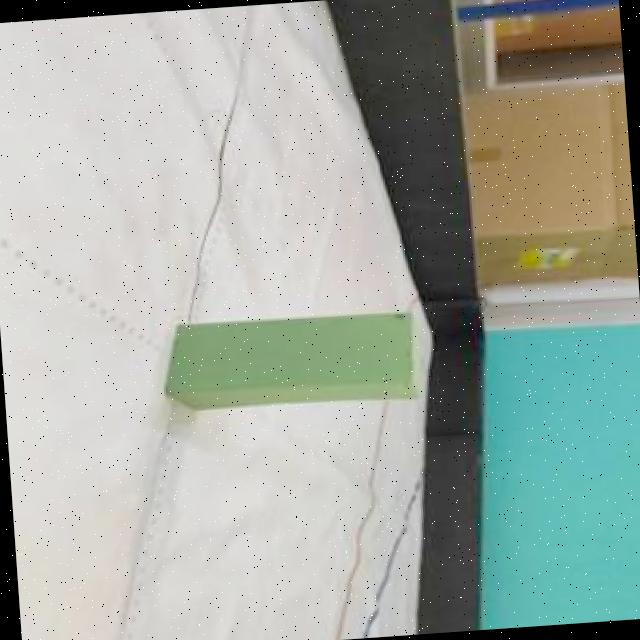greenbox: (158, 306, 427, 421)
